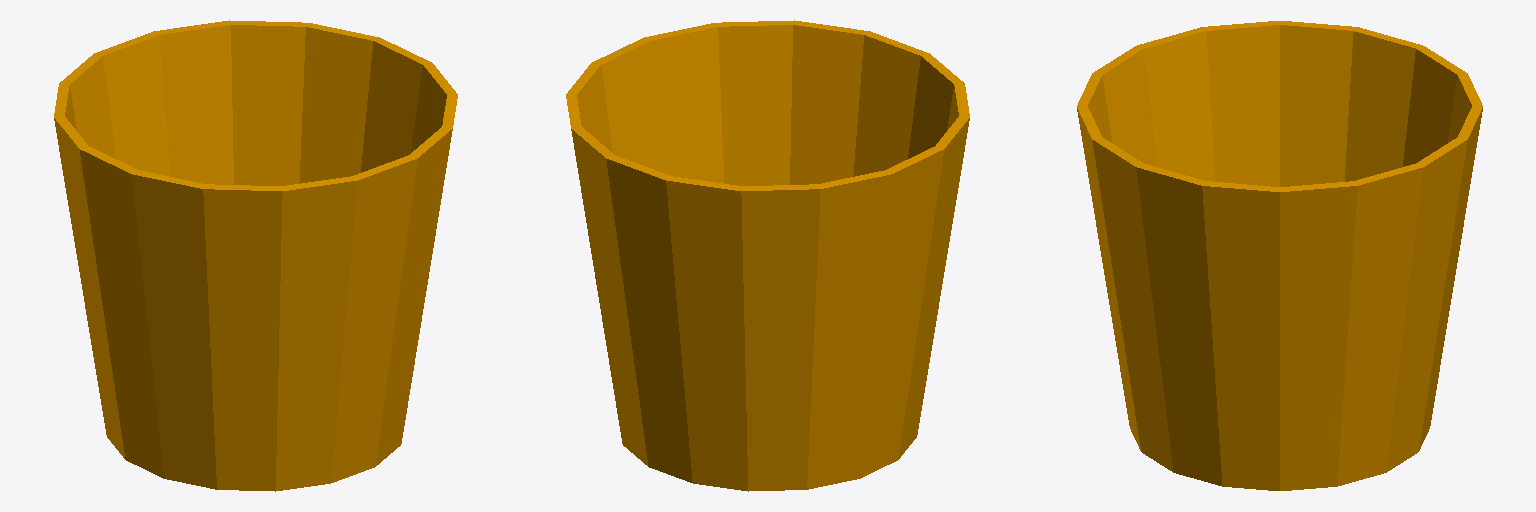
The robot description file, URDF, robot "plastic_cup":
<?xml version="1.0"?>
<robot name="plastic_cup">
  <link name="cup_link">
    <visual>
      <geometry>
        <!-- <mesh filename="model://plastic_cup/meshes/plastic_cup.dae" scale="1 1 0.5"/> -->
        <mesh filename="model://plastic_cup/meshes/plastic_cup.stl" scale="1 1 0.5"/>        
      </geometry>
      <material name="SkyBlue">
        <ambient>1.0 1.0 1.0 1.0</ambient>
        <diffuse>1.0 1.0 1.0 1.0</diffuse>
        <specular>0.0 0.0 0.0 1.0</specular>
        <emissive>0.0 0.0 0.0 1.0</emissive>
      </material>
    </visual>
    <collision>
      <geometry>
        <!-- <mesh filename="model://plastic_cup/meshes/plastic_cup.dae" scale="1 1 0.5"/>         -->
        <mesh filename="model://plastic_cup/meshes/plastic_cup.stl" scale="1 1 0.5"/>        
      </geometry>
    </collision>
    <inertial>
      <mass value="0.1"/> <!-- 여기 수정(원래는0.2였음)_250527-->  
      <!-- <pose>0 0.0 -0.03 0 0 0</pose>  여기 수정: ✅ 무게 중심을 아래로  -->
      <inertia
        ixx="1e-6" 
        ixy="0.0"
        ixz="0.0"
        iyy="1e-6"
        iyz="0.0"
        izz="1e-6"/>
    </inertial>
  </link>

  <!-- Gazebo 전용 색상 적용 -->
  <gazebo reference="cup_link">
    <material>Gazebo/White</material>
  </gazebo>  
</robot>

--- Facts derived from the render (not from the file) ---
3 views of the same robot in one strip: view 1: azimuth 30°, elevation 25°; view 2: azimuth 150°, elevation 25°; view 3: azimuth 270°, elevation 25° (orthographic).
Model plastic_cup with 1 links and 0 joints (none), rooted at cup_link, posed every joint at zero.
Links seen in each view (by area): view 1: cup_link; view 2: cup_link; view 3: cup_link.
Boxes of the visible links, box(x1,y1,x2,y2) form: cup_link: box(54, 20, 457, 491); cup_link: box(566, 20, 969, 491); cup_link: box(1077, 21, 1482, 490).
Bounding box of the posed robot: 0.0745 × 0.0745 × 0.0651 m (x, y, z).
Meshes: 1 distinct files referenced, 1 mesh visuals loaded (1 binary STL).
